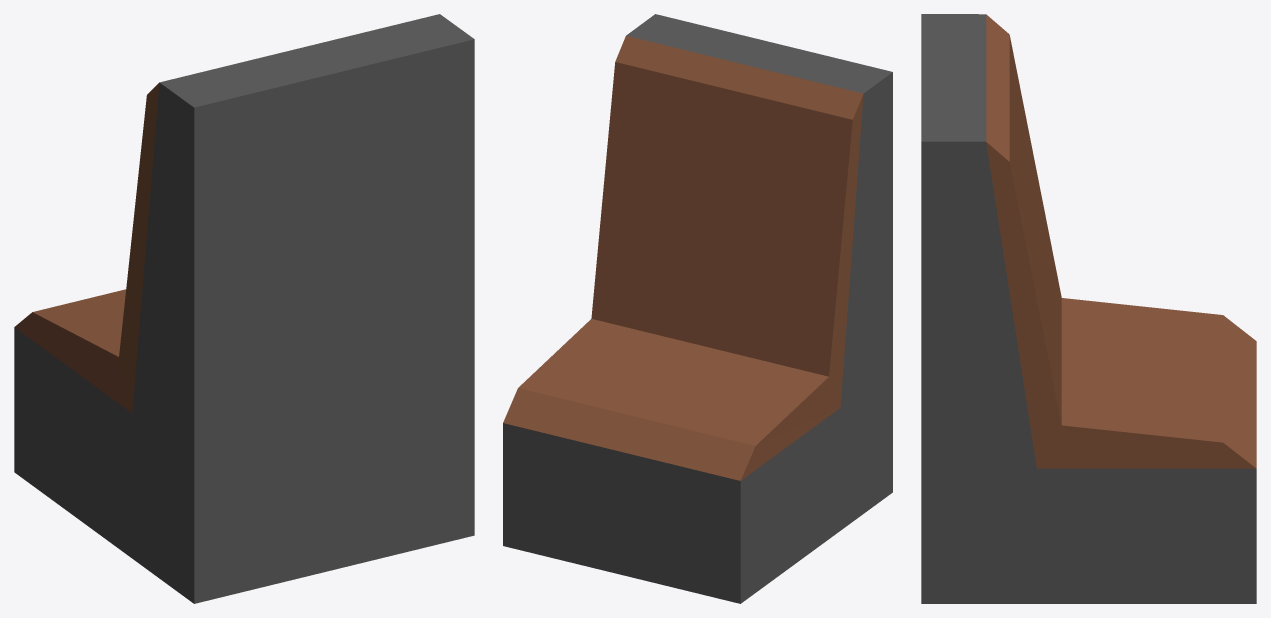
The model's file is Seat.fbx.
The picture shows the model from 3 angles, left to right: view 1: azimuth 30°, elevation 25°; view 2: azimuth 150°, elevation 25°; view 3: azimuth 270°, elevation 25°; orthographic projection. The views are drawn at different scales.
Visible parts, largest first — view 1: Seat; view 2: Seat; view 3: Seat.
Boxes of the visible parts, x1,y1,x2,y2 form: Seat: (14,14,474,603); Seat: (503,14,892,603); Seat: (921,14,1256,603).
Bounding box in the file's own units: 105 × 177 × 116.
